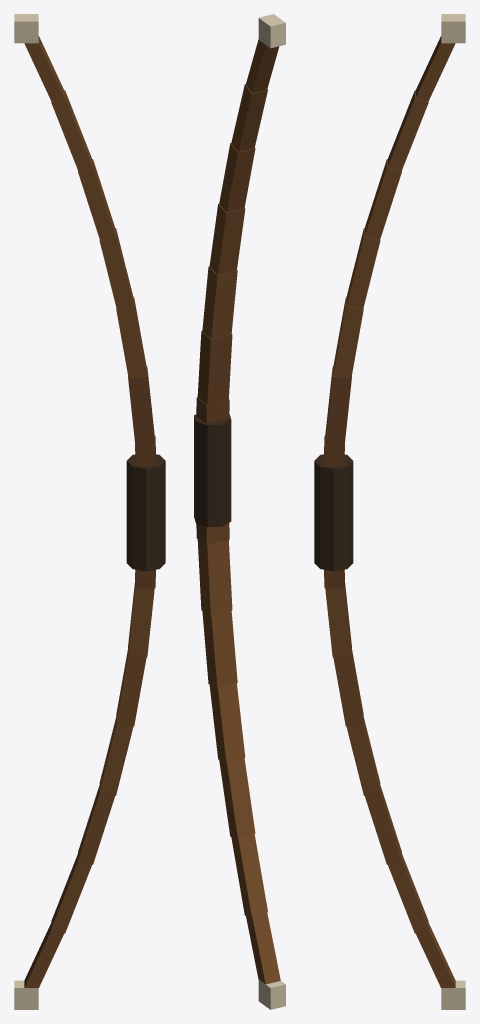
The model's file is bow.glb.
The picture shows the model from 3 angles, left to right: view 1: azimuth 90°, elevation 25°; view 2: azimuth 210°, elevation 25°; view 3: azimuth 270°, elevation 25°; orthographic projection.
Parts seen in each view (by area): view 1: bow_wood, bow_cloth, bow_horn; view 2: bow_wood, bow_cloth, bow_horn; view 3: bow_wood, bow_cloth, bow_horn.
Part boxes in pixels (bbox=[...]): bow_wood: bbox=[24, 36, 155, 987]; bow_cloth: bbox=[126, 454, 165, 571]; bow_horn: bbox=[14, 14, 38, 1009]; bow_wood: bbox=[196, 39, 280, 984]; bow_cloth: bbox=[194, 414, 231, 527]; bow_horn: bbox=[258, 14, 285, 1009]; bow_wood: bbox=[324, 36, 455, 987]; bow_cloth: bbox=[314, 454, 353, 571]; bow_horn: bbox=[441, 14, 465, 1009].
Bounding box in the file's own units: 0.048 × 1.35 × 0.187.
